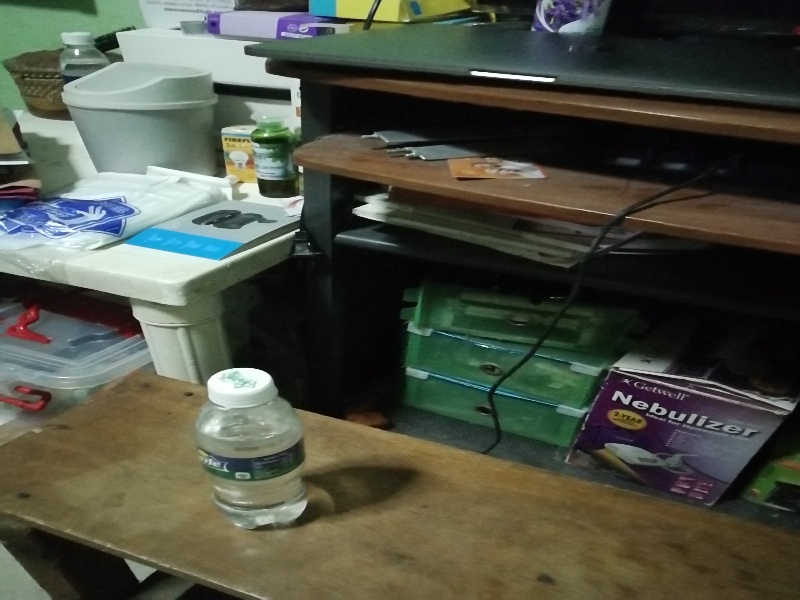PET #1: (193, 367, 311, 543)
